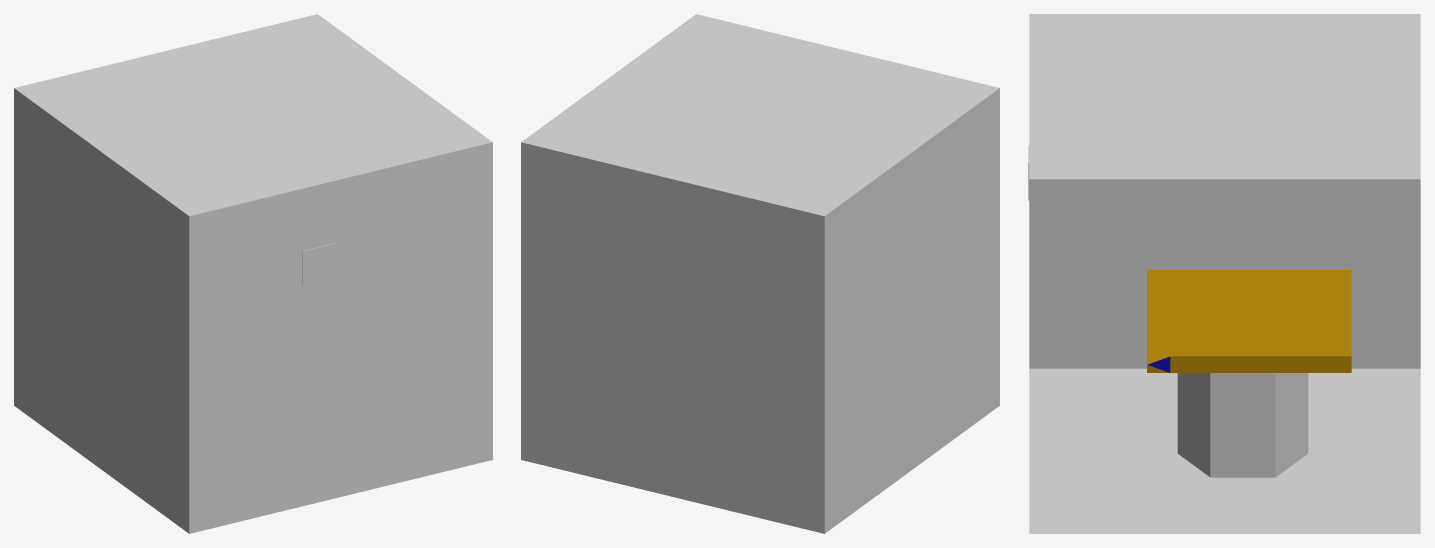
Rendered from exemplocena.dae.
The picture shows the model from 3 angles, left to right: view 1: azimuth 30°, elevation 25°; view 2: azimuth 150°, elevation 25°; view 3: azimuth 270°, elevation 25°; orthographic projection. The views are drawn at different scales.
Parts seen in each view (by area): view 1: Cube, Cube.001; view 2: Cube; view 3: Cube, Cube.002, Cylinder, Cube.001.
Part boxes in pixels (bbox=[...]): Cube: bbox=[14, 14, 492, 533]; Cube.001: bbox=[302, 243, 335, 284]; Cube: bbox=[521, 14, 999, 533]; Cube: bbox=[1029, 14, 1420, 533]; Cube.002: bbox=[1147, 270, 1351, 372]; Cylinder: bbox=[1177, 373, 1308, 477]; Cube.001: bbox=[1028, 145, 1069, 200].
Size of the model in its own units: 6 by 6.02 by 6.
